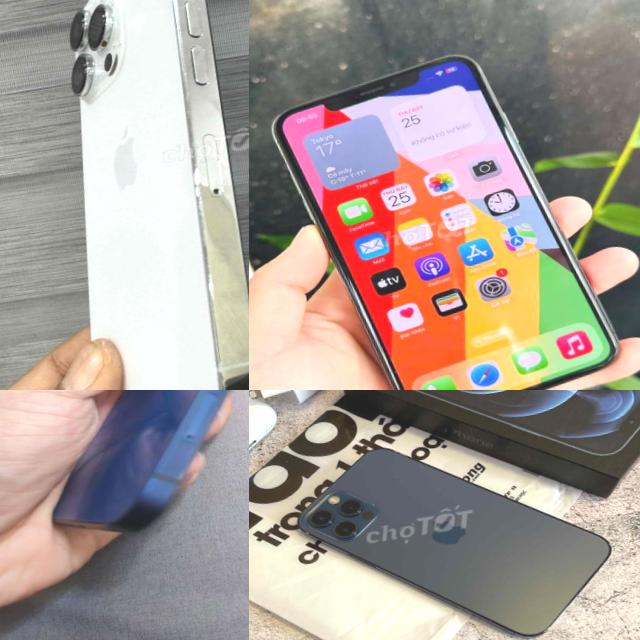gen_12_13: (285, 411, 629, 640), (0, 390, 249, 553)
gen_14: (0, 0, 249, 390)
gen_x_xs: (274, 56, 618, 390)
